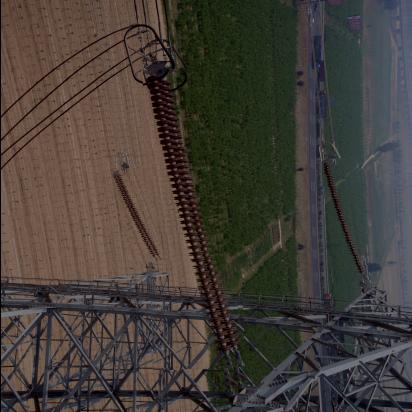insulator: (146, 69, 243, 371), (325, 159, 367, 284), (116, 167, 158, 266)
